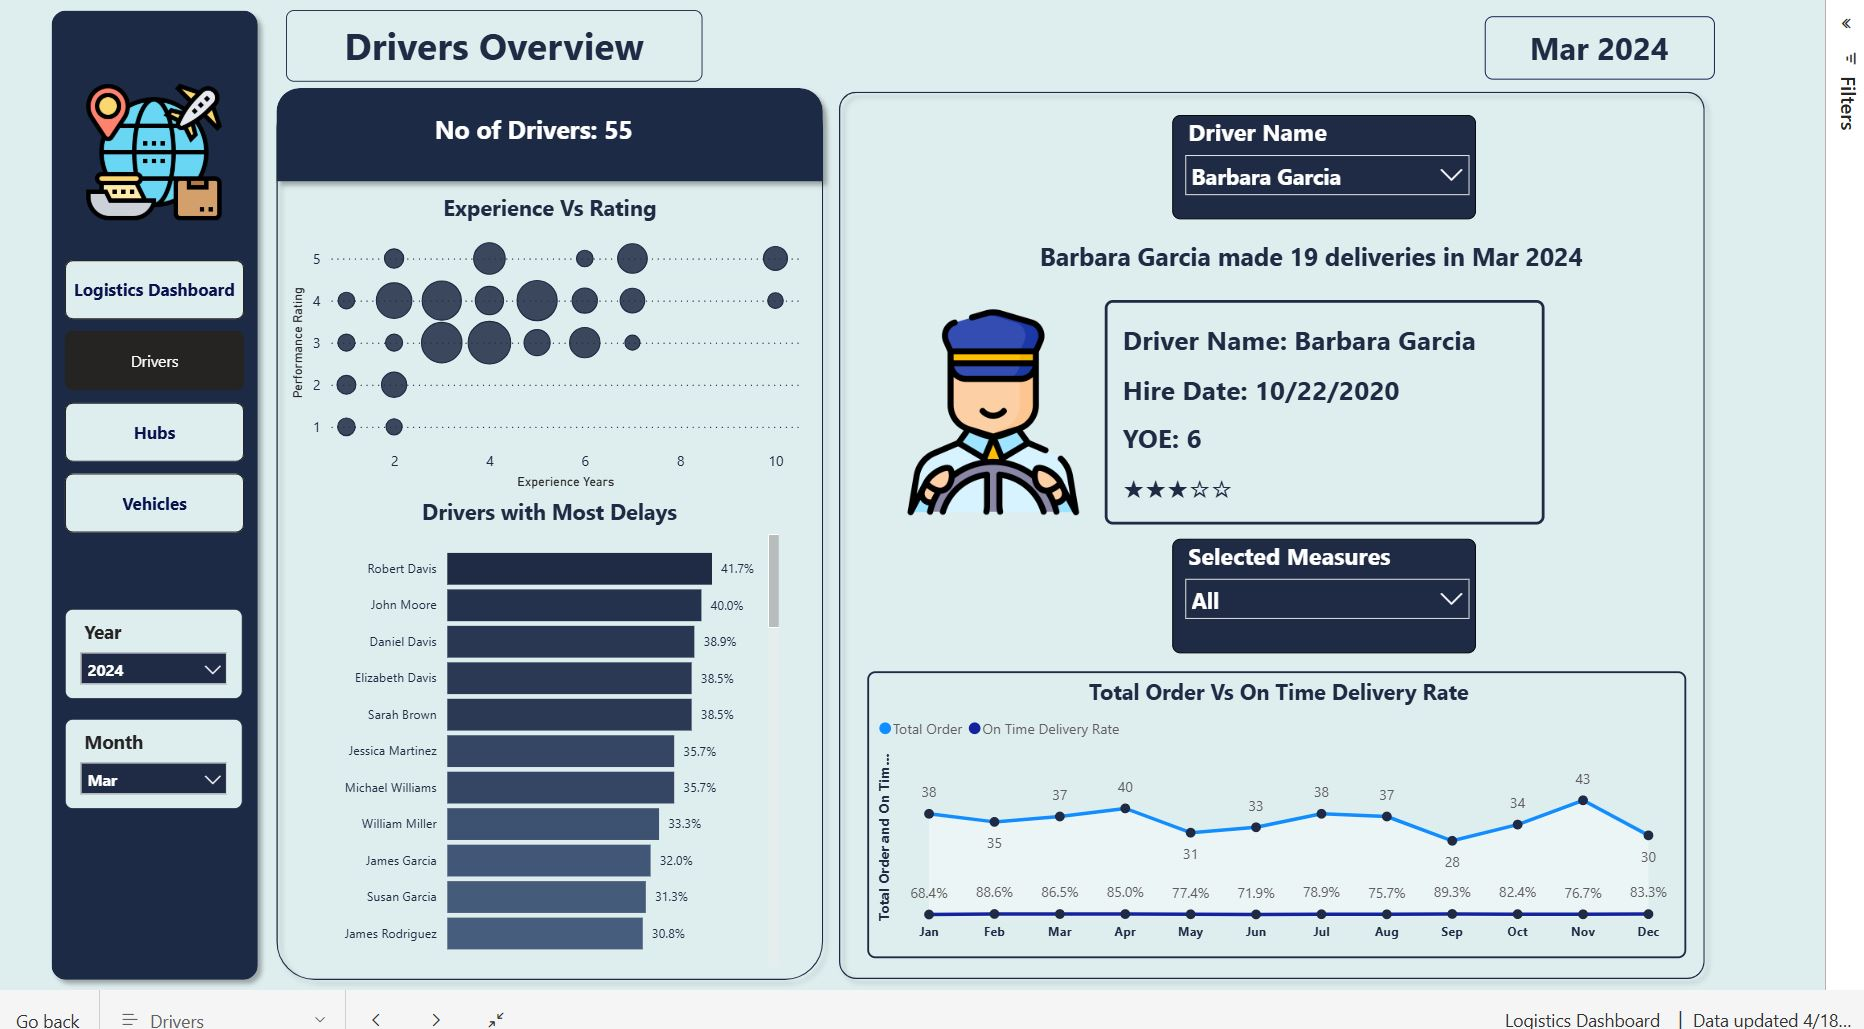

Layout of this report page (visuals, bound fields, positions):
{"tool":"powerbi","page":{"name":"Drivers","canvas":[1450,850],"ordinal":1},"visuals":[{"type":"shape","box":[0,0,195.1,850.3],"z":0},{"type":"textbox","box":[210.8,8.5,357.5,61.2],"z":1000},{"type":"shape","box":[193.2,67.8,487.3,782.8],"z":2000},{"type":"shape","box":[193.7,66.9,487.1,98.3],"z":3000},{"type":"cardVisual","fields":{"Data":["Drivers.No of Drivers"]},"box":[337.6,84,178,47],"z":5000},{"type":"shape","box":[680.8,69.8,760.6,780.5],"z":6000},{"type":"scatterChart","title":"Experience Vs Rating","fields":{"X":["Drivers.Experience Years"],"Y":["Drivers.Performance Rating"],"Size":["Orders.CSAT Score"]},"box":[210.8,165.2,452.9,259.2],"z":7000},{"type":"clusteredBarChart","title":"Drivers with Most Delays","fields":{"Category":["Drivers.DriverName"],"Y":["Orders.Delayed Delivery Rate"]},"box":[235,425.9,403.1,410.2],"z":8000},{"type":"slicer","fields":{"Values":["Drivers.DriverName"]},"box":[971.4,98.3,260.6,89.7],"z":9000},{"type":"cardVisual","fields":{"Data":["Drivers.Driver Title"]},"box":[837.5,188,511.3,57],"z":10000},{"type":"cardVisual","fields":{"Data":["Drivers.Driver Name Title","Drivers.Hire Date Title","Drivers.YOE","Drivers.Star Rating"]},"box":[930,256.4,391.7,192.3],"z":11000},{"type":"image","box":[725,257.8,186.6,192.3],"z":12000},{"type":"areaChart","title":"Total Order Vs On Time Delivery Rate","fields":{"Y":["Orders.Total Order","Orders.On Time Delivery Rate"],"Category":["DATE.Month"]},"box":[709.3,576.8,703.6,246.4],"z":13000},{"type":"slicer","fields":{"Values":["S_Measures.S_Measures"]},"box":[971.4,462.9,260.6,98.3],"z":14000},{"type":"image","box":[28.6,65.9,136,130.3],"z":17000},{"type":"pageNavigator","box":[20,223.3,154.6,236.2],"z":18000},{"type":"cardVisual","fields":{"Data":["DATE.Year Month Value"]},"box":[1239.1,14.2,198,54.1],"z":19000},{"type":"slicer","fields":{"Values":["DATE.Year"]},"box":[20,522.6,153.2,77.3],"z":19001},{"type":"slicer","fields":{"Values":["DATE.Month"]},"box":[20,617.1,153.2,77.3],"z":19002}]}

Visuals, with their boxes on the page's 1450x850 design canvas (x1, y1, x2, y2). These are canvas units, not pixel positions in the 1864x1029 screenshot, which may show the page scaled, cropped or inside an application window:
shape: [x1=0, y1=0, x2=195, y2=850]
textbox: [x1=211, y1=8, x2=568, y2=70]
shape: [x1=193, y1=68, x2=680, y2=851]
shape: [x1=194, y1=67, x2=681, y2=165]
cardVisual - Drivers.No of Drivers: [x1=338, y1=84, x2=516, y2=131]
shape: [x1=681, y1=70, x2=1441, y2=850]
"Experience Vs Rating" scatterChart: [x1=211, y1=165, x2=664, y2=424]
"Drivers with Most Delays" clusteredBarChart: [x1=235, y1=426, x2=638, y2=836]
slicer - Drivers.DriverName: [x1=971, y1=98, x2=1232, y2=188]
cardVisual - Drivers.Driver Title: [x1=838, y1=188, x2=1349, y2=245]
cardVisual - Drivers.Driver Name Title x Drivers.Hire Date Title: [x1=930, y1=256, x2=1322, y2=449]
image: [x1=725, y1=258, x2=912, y2=450]
"Total Order Vs On Time Delivery Rate" areaChart: [x1=709, y1=577, x2=1413, y2=823]
slicer - S_Measures.S_Measures: [x1=971, y1=463, x2=1232, y2=561]
image: [x1=29, y1=66, x2=165, y2=196]
pageNavigator: [x1=20, y1=223, x2=175, y2=460]
cardVisual - DATE.Year Month Value: [x1=1239, y1=14, x2=1437, y2=68]
slicer - DATE.Year: [x1=20, y1=523, x2=173, y2=600]
slicer - DATE.Month: [x1=20, y1=617, x2=173, y2=694]
